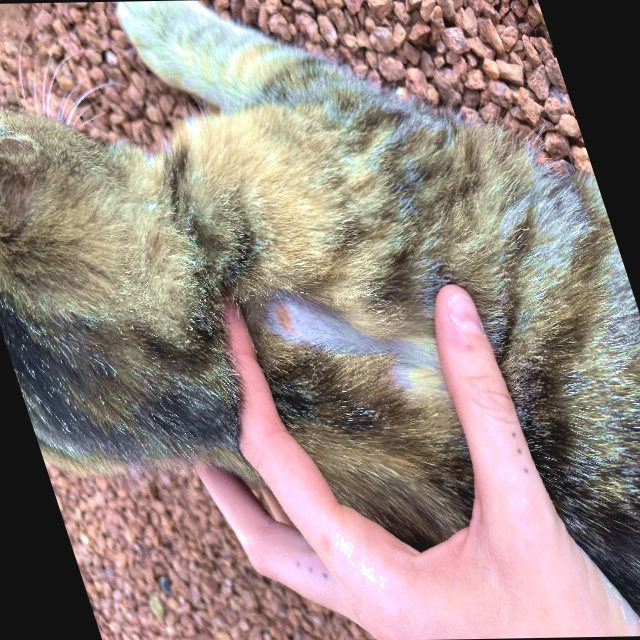hairloss: (236, 281, 461, 405)
